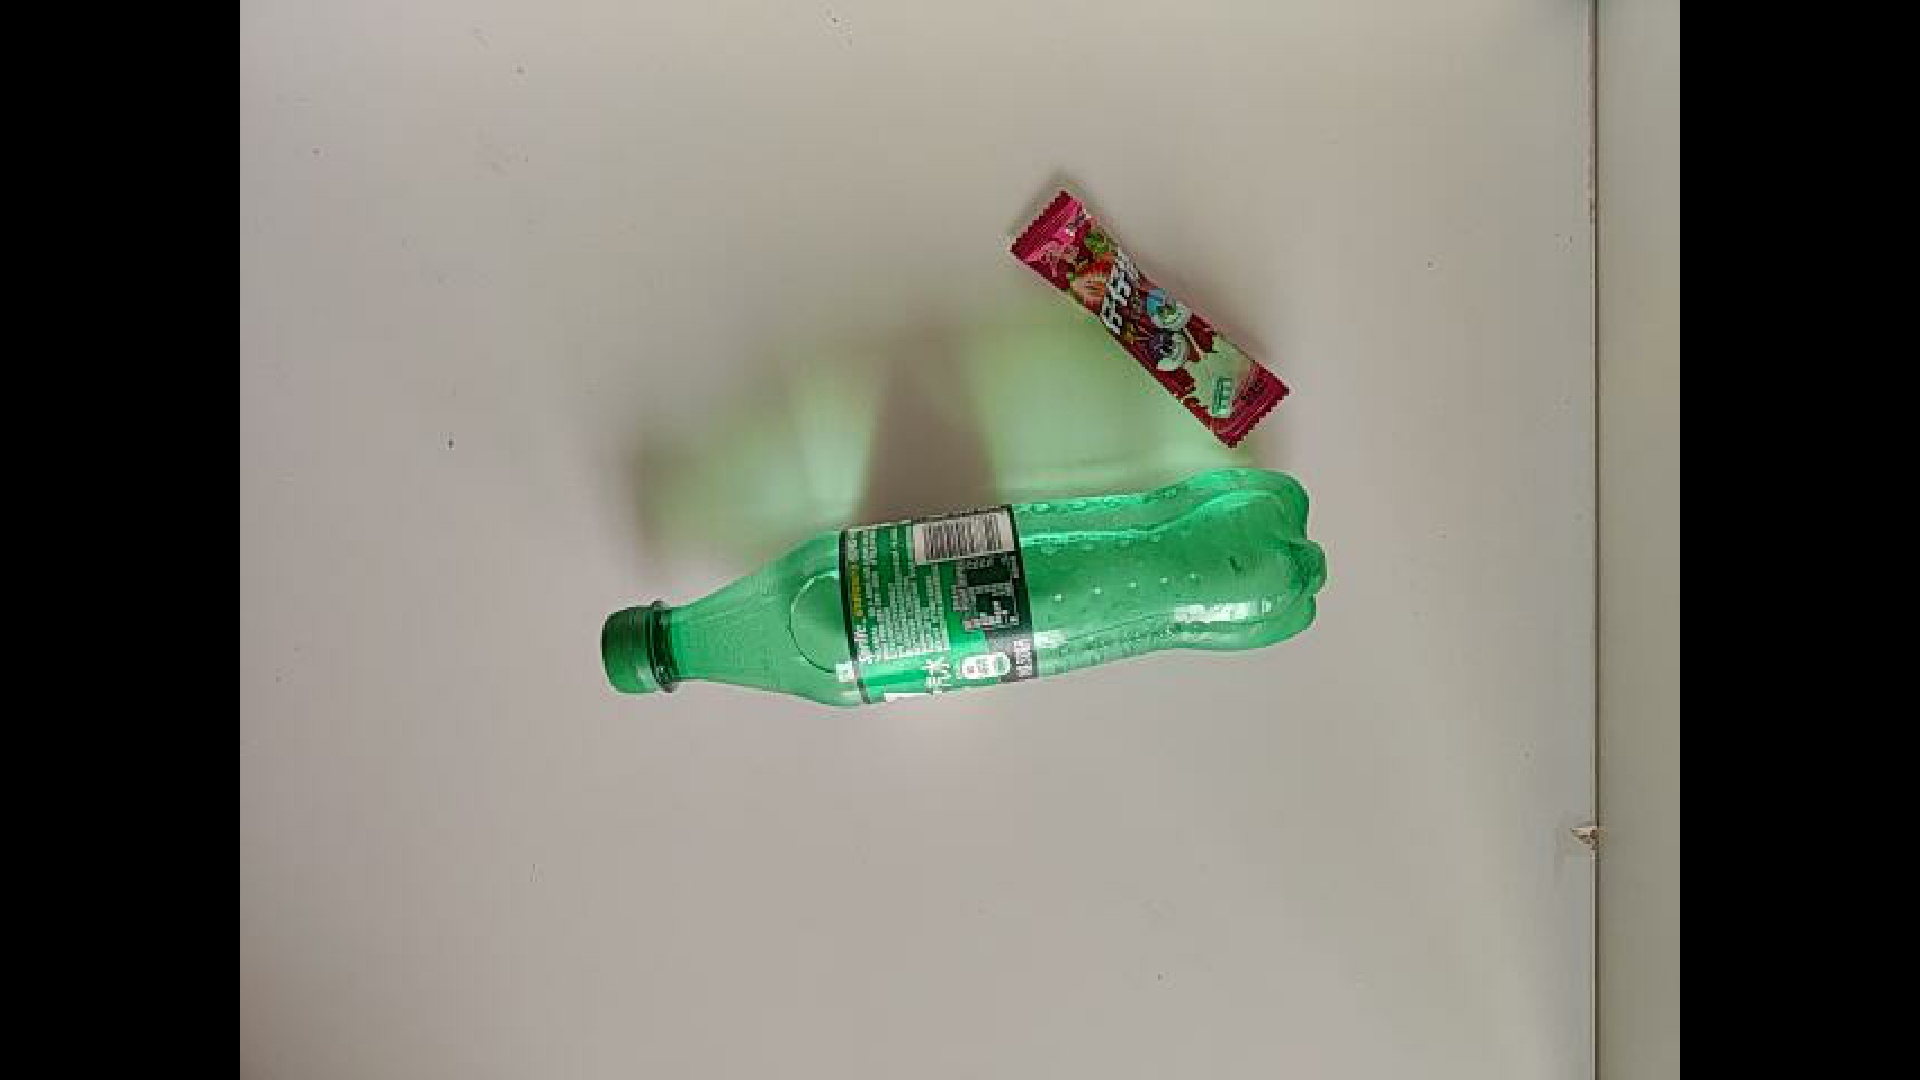sprite: (585, 502, 1361, 749)
sugar: (957, 186, 1295, 367)
